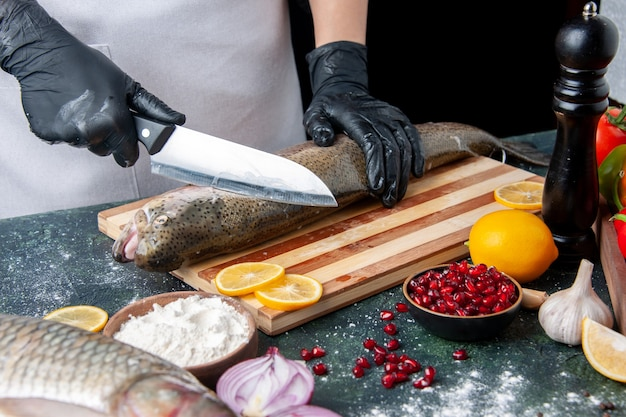knife: (129, 111, 338, 205)
